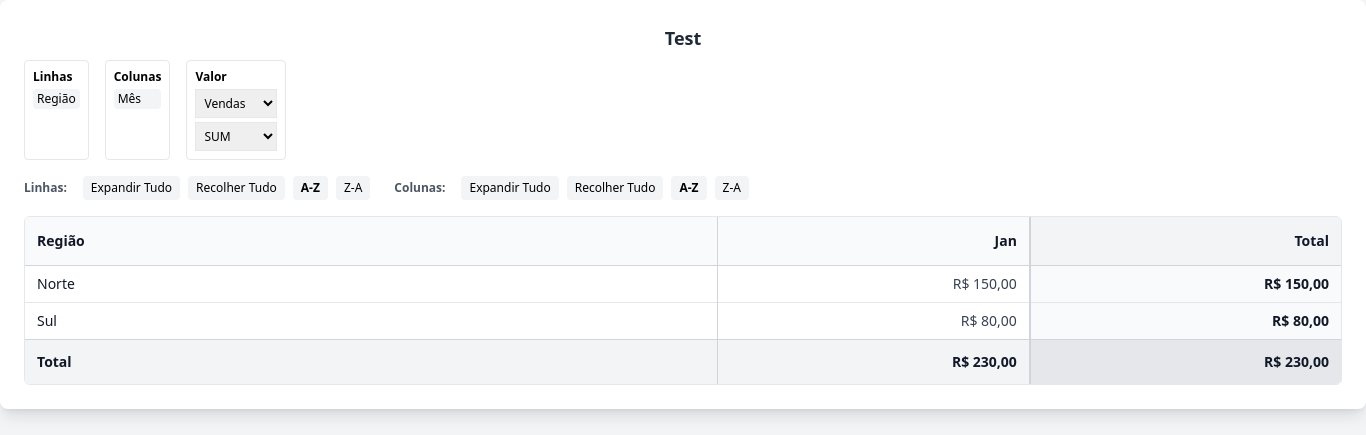
aggregation and field edits update cell values
This screenshot has width=1366, height=435.
expect the 1st cell "R$ 150,00" is shown: met, box [717, 266, 1030, 302]
Select "Lucro" in the dropdown with test id "value-field-select" at (236, 104), box [195, 89, 277, 118]
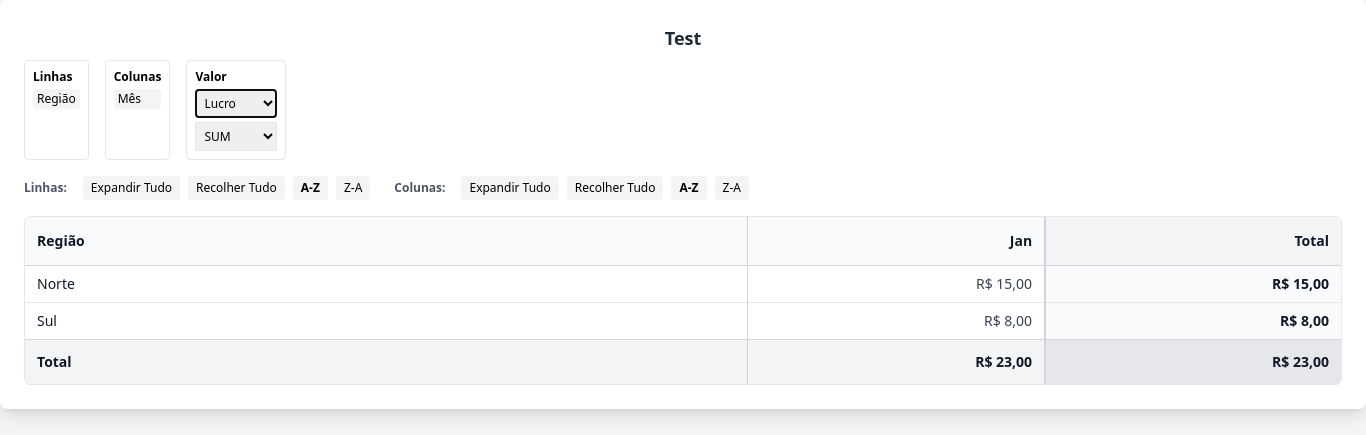
expect the 1st cell "R$ 15,00" is shown: met, box [747, 266, 1045, 302]
Select "COUNT" in the dropdown with test id "aggregation-select" at (236, 136), box [195, 122, 277, 151]
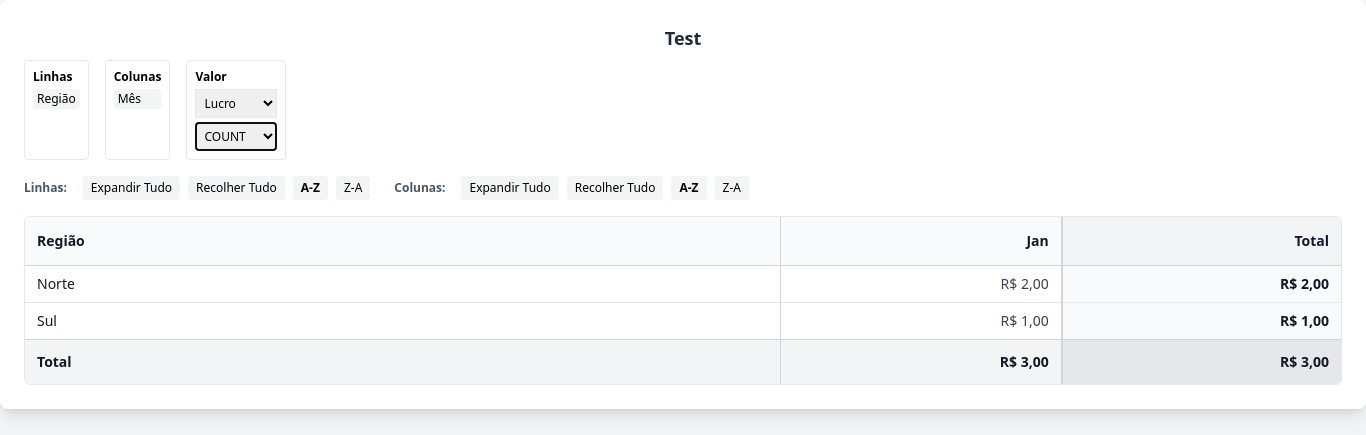
expect the 1st cell "R$ 2,00" is shown: met, box [781, 266, 1062, 302]
